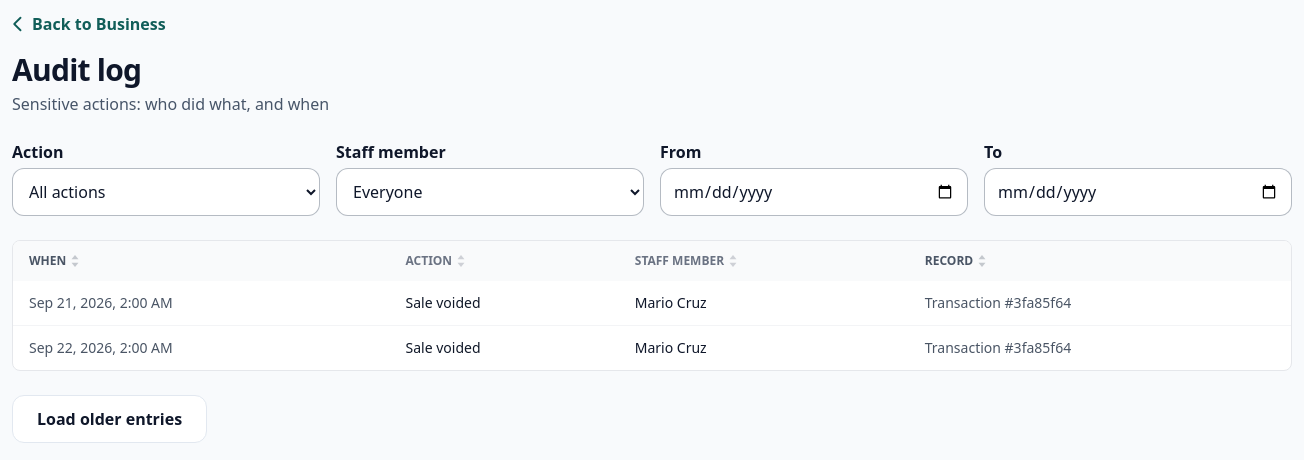
Test: AuditLogPage › pages older entries using the last one as the cursor
Click the button "Load older entries".
click(110, 419)  # box left=12, top=395, right=207, bottom=443
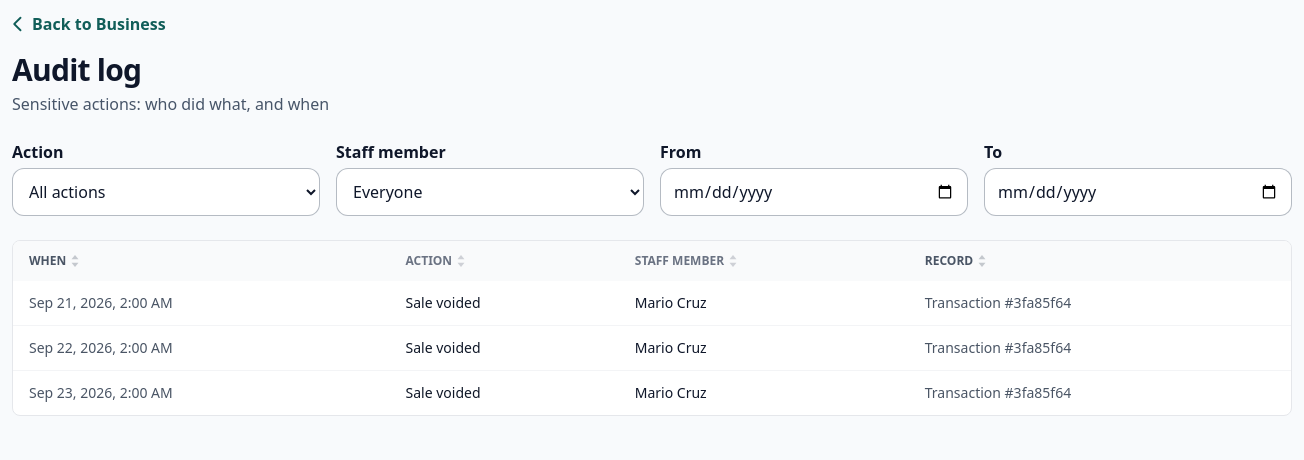
Check: the button "Load older entries" is gone
